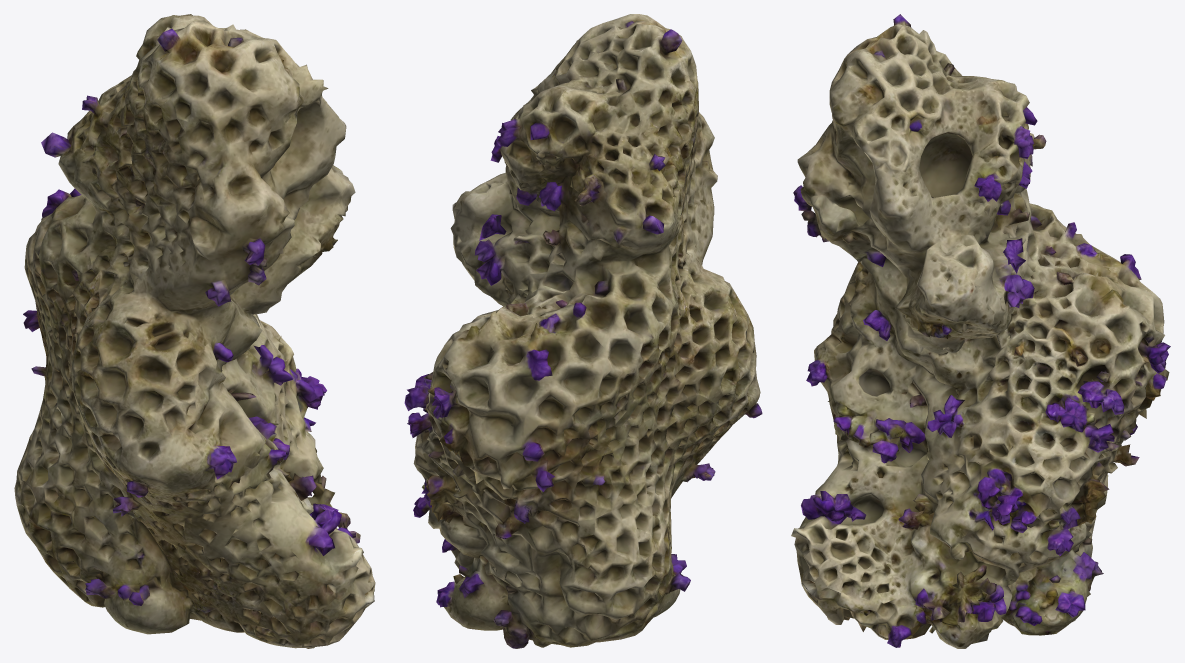
The model's file is rock_b.glb.
3 renders of one model, left to right at view 1: azimuth 30°, elevation 25°; view 2: azimuth 150°, elevation 25°; view 3: azimuth 270°, elevation 25°, orthographic. The views are drawn at different scales.
Parts seen in each view (by area): view 1: tripo_node_73ff0dc1-6100-48c2-a37f-9b2099ac50eb; view 2: tripo_node_73ff0dc1-6100-48c2-a37f-9b2099ac50eb; view 3: tripo_node_73ff0dc1-6100-48c2-a37f-9b2099ac50eb.
Boxes of the visible parts, bbox=[...] form: tripo_node_73ff0dc1-6100-48c2-a37f-9b2099ac50eb: bbox=[14, 14, 375, 648]; tripo_node_73ff0dc1-6100-48c2-a37f-9b2099ac50eb: bbox=[404, 14, 762, 648]; tripo_node_73ff0dc1-6100-48c2-a37f-9b2099ac50eb: bbox=[791, 14, 1170, 648].
Bounding box in the file's own units: 0.5032 × 1 × 0.6191.
Materials: 1 (1 with a texture image).
